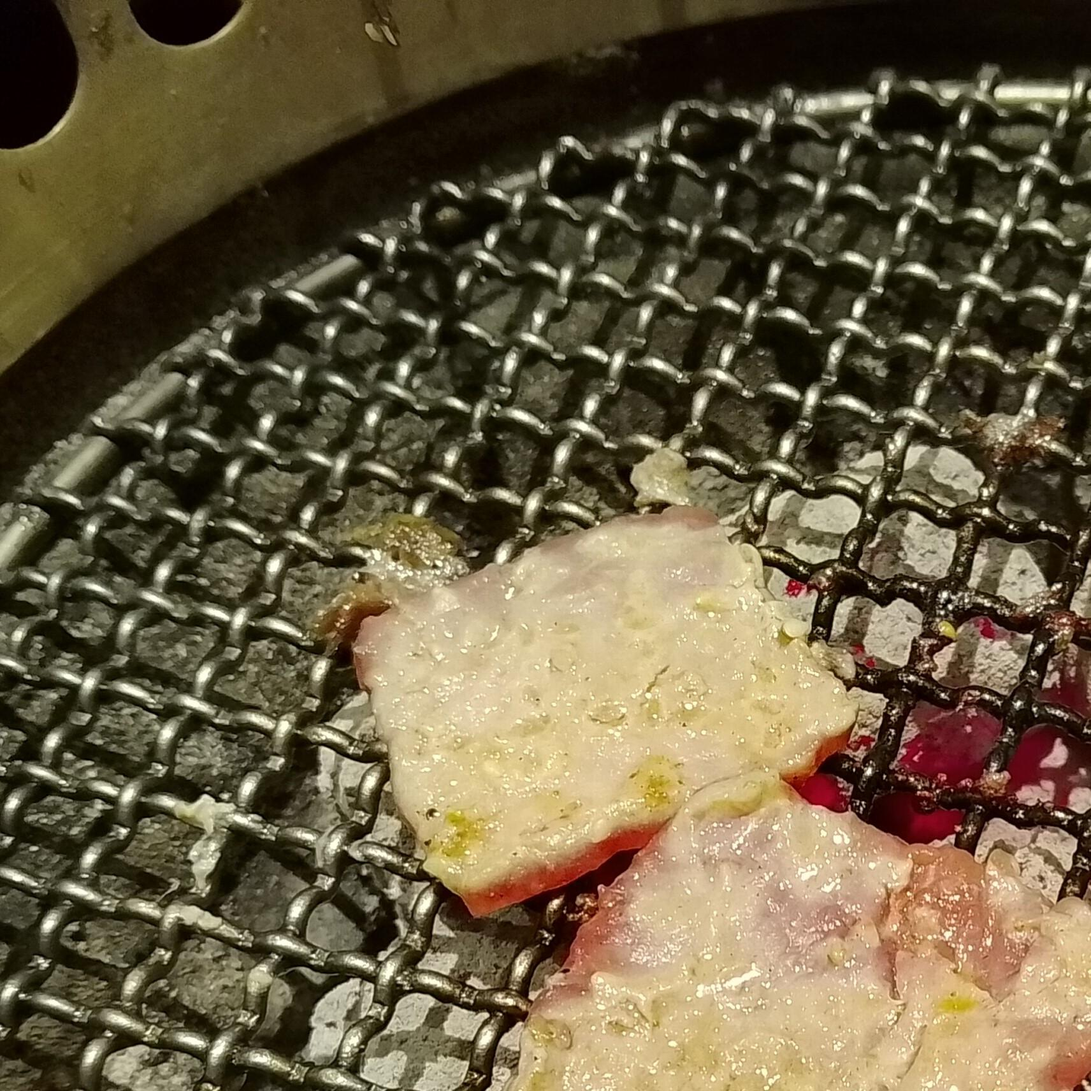Undercooked: (328, 507, 860, 922), (524, 805, 1090, 1090)
